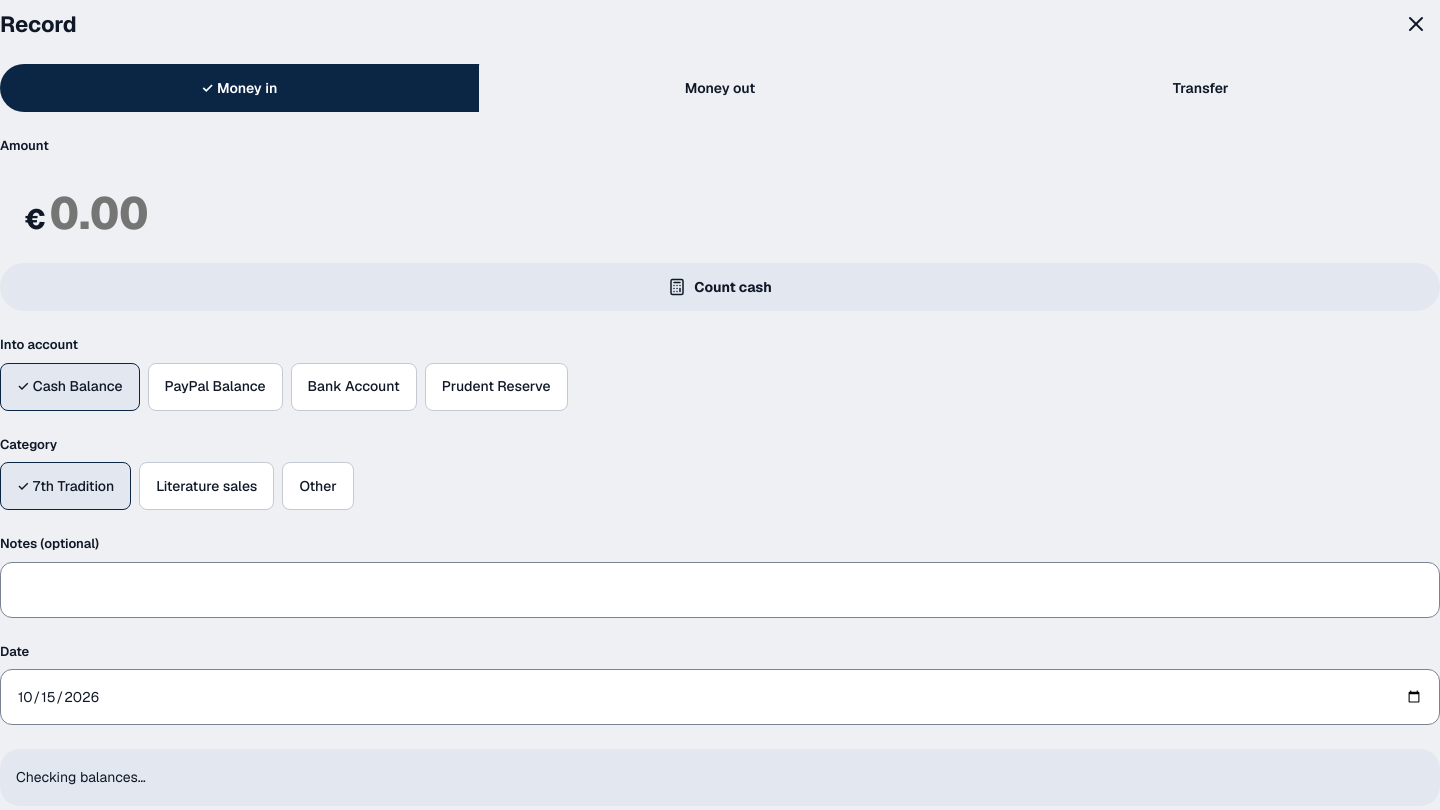
Record screen › shows an error and no receipt when saving fails
The image size is (1440, 810).
Type "10" into the field labelled "Amount". click: (733, 213)
box: [50,180,1416,247]
(page scrolled)
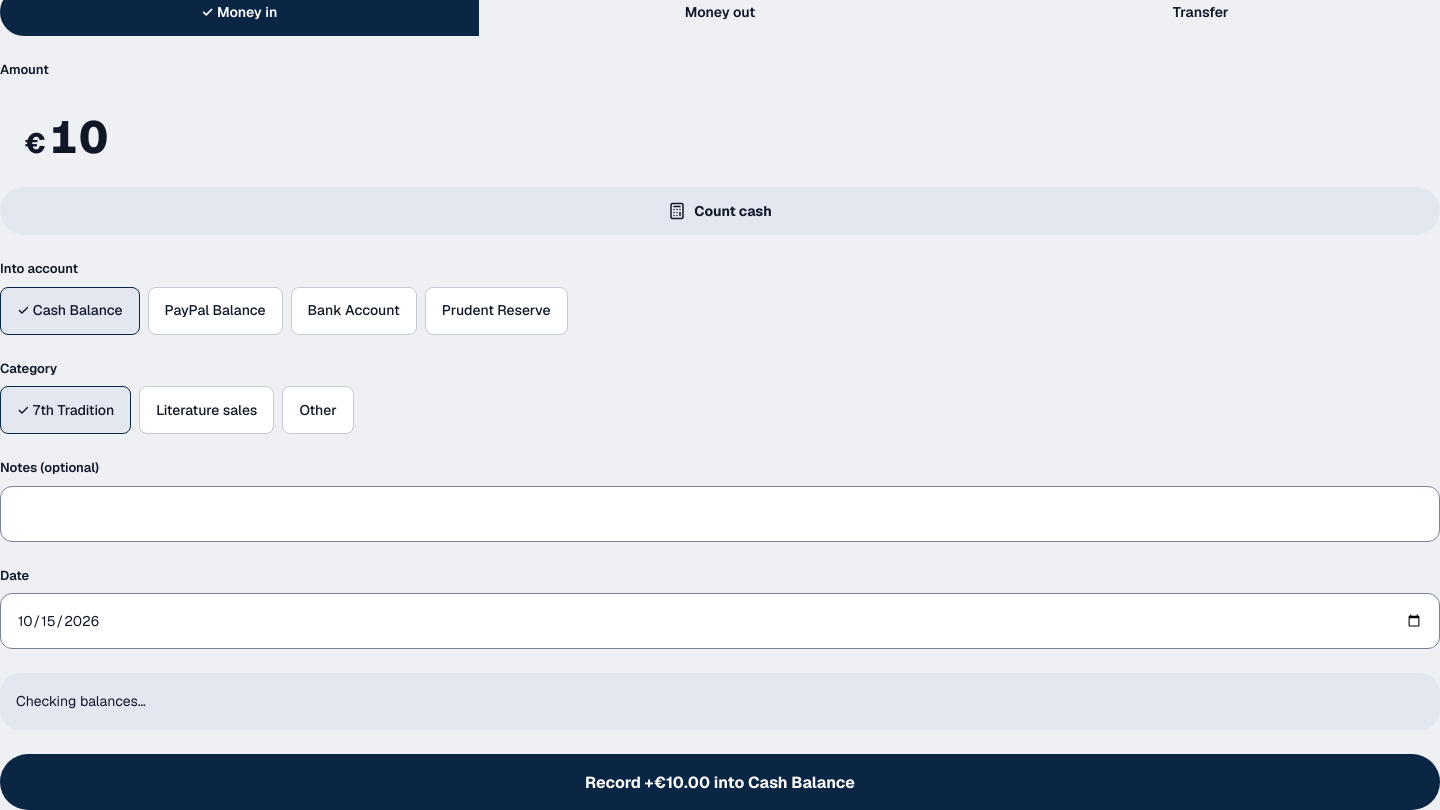
Click the button "Record +€10.00 into Cash Balance". click: (720, 782)
box: [0,754,1439,809]
(page scrolled)
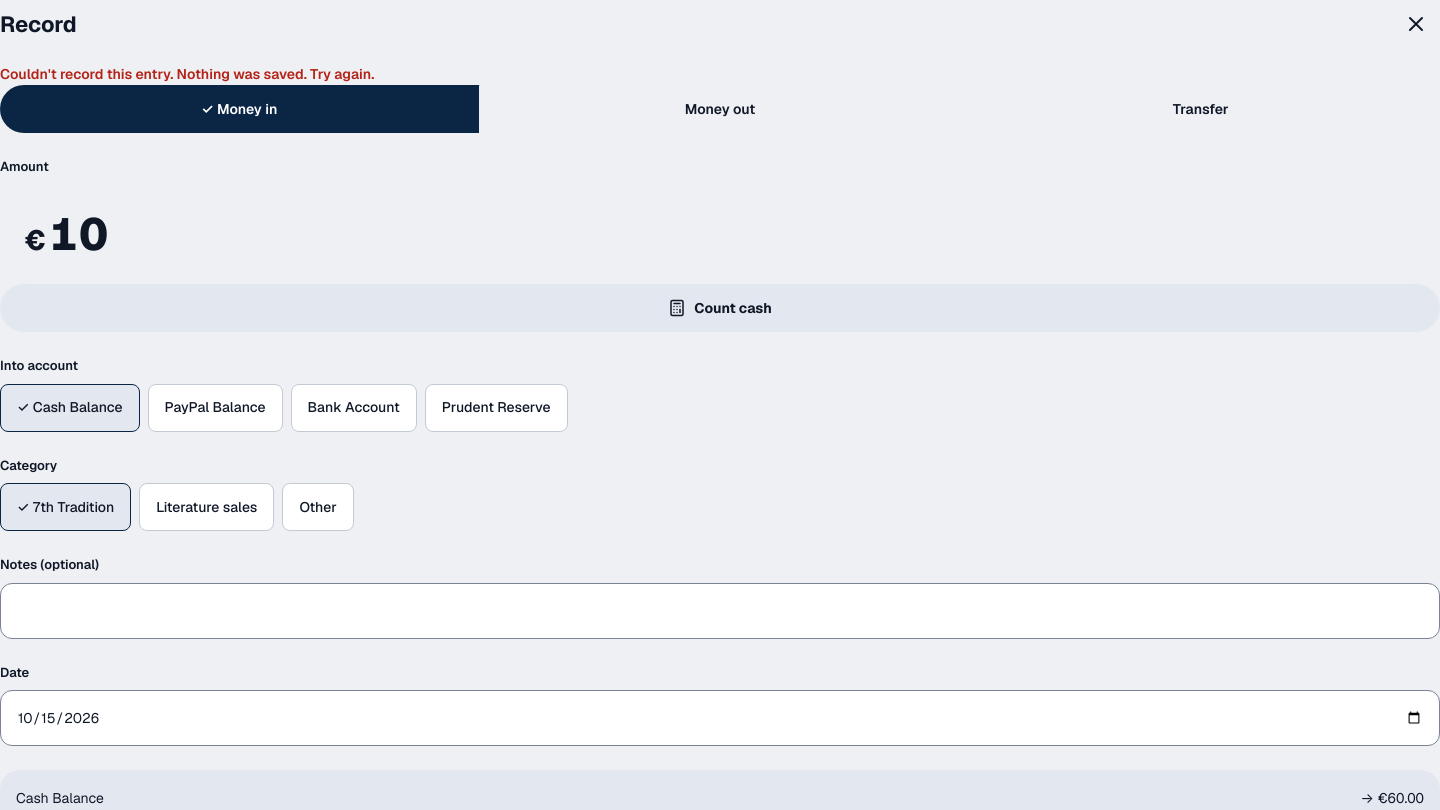
expect the text "Couldn't record this entry. Nothing was saved. Try again." is shown: met, box [0,65,374,83]
